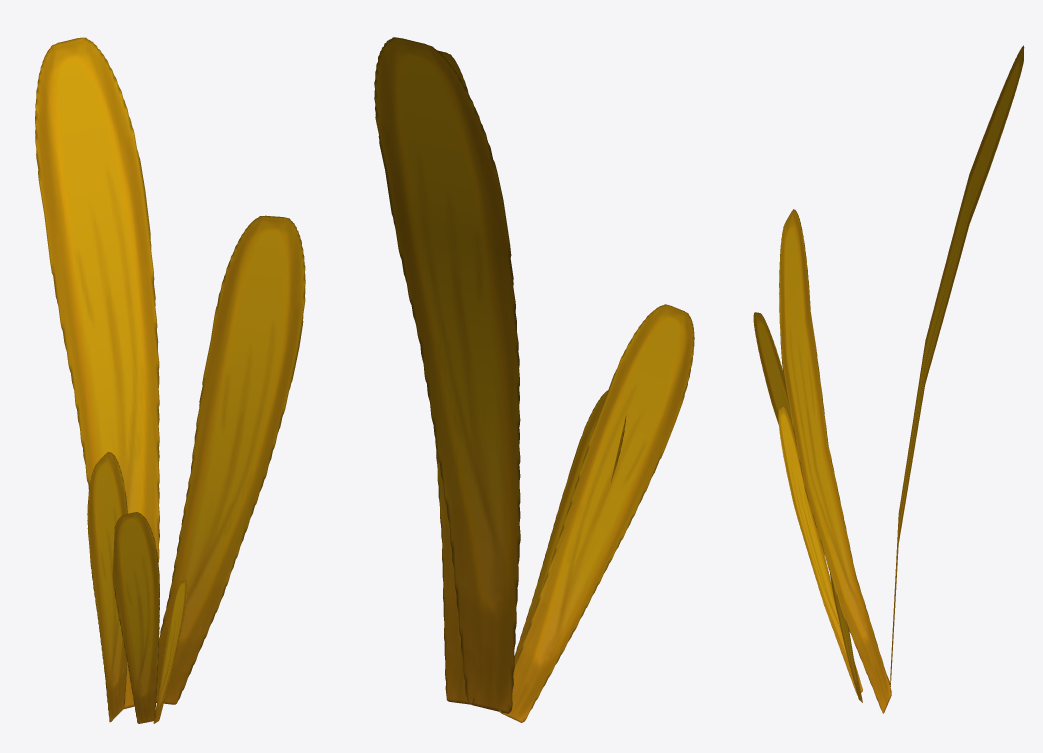
The model's file is 5_Malla_Arbusto.fbx.
The picture shows the model from 3 angles, left to right: view 1: azimuth 30°, elevation 25°; view 2: azimuth 150°, elevation 25°; view 3: azimuth 270°, elevation 25°; orthographic projection. The views are drawn at different scales.
Parts seen in each view (by area): view 1: Arbustos_Varios1.002; view 2: Arbustos_Varios1.002; view 3: Arbustos_Varios1.002.
Part boxes in pixels (left/top/right/bottom): Arbustos_Varios1.002: left=35, top=37, right=305, bottom=723; Arbustos_Varios1.002: left=374, top=37, right=694, bottom=722; Arbustos_Varios1.002: left=753, top=45, right=1024, bottom=713.
Bounding box in the file's own units: 38.97 × 95.2 × 36.74.
